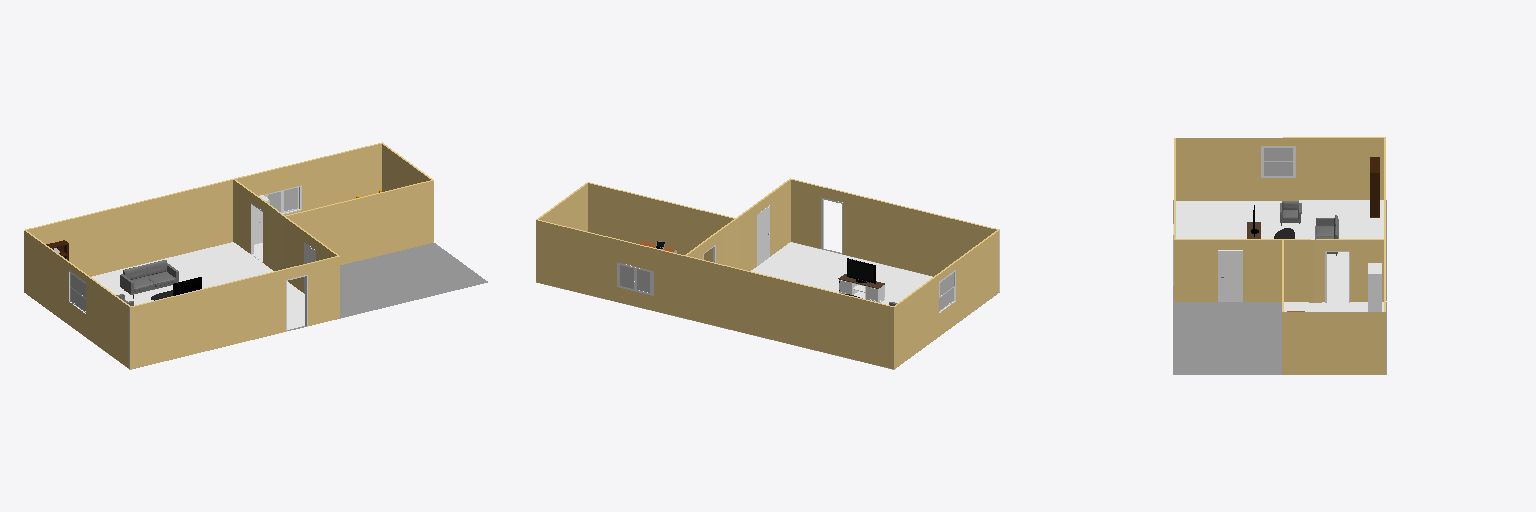
The model's file is casa.obj.
The picture shows the model from 3 angles: view 1: azimuth 30°, elevation 25°; view 2: azimuth 150°, elevation 25°; view 3: azimuth 270°, elevation 25°; orthographic projection.
Visible parts, largest first — view 1: wall_10_59, wall_6_34, wall_3_16, ground_1, wall_7_41, wall_1_5, room_12_63, wall_5_28, wall_8_46, wall_2_11, wall_4_22; view 2: wall_6_35, wall_10_58, wall_1_4, wall_7_41, wall_3_17, room_12_63, wall_8_46, wall_2_11, wall_4_22, sweethome3d_opening_on_hinge_1_door_132; view 3: wall_7_40, ground_1, room_12_63, wall_2_10, wall_8_47, wall_5_29, wall_4_23, sweethome3d_opening_on_hinge_1_door_132, room_11_62, Corps_90, Bookcase_198.
Boxes of the visible parts, box(x1,y1,x2,y2) form: wall_10_59: box(130, 257, 339, 369); wall_6_34: box(27, 180, 232, 276); wall_3_16: box(286, 181, 433, 264); ground_1: box(47, 243, 487, 369); wall_7_41: box(24, 231, 128, 367); wall_1_5: box(236, 144, 381, 215); room_12_63: box(91, 242, 304, 329); wall_5_28: box(233, 180, 269, 267); wall_8_46: box(284, 217, 336, 292); wall_2_11: box(382, 144, 430, 191); wall_4_22: box(270, 206, 283, 270); wall_6_35: box(685, 256, 893, 368); wall_10_58: box(791, 180, 996, 276); wall_1_4: box(536, 220, 684, 317); wall_7_41: box(894, 231, 998, 369); wall_3_17: box(588, 183, 733, 261); room_12_63: box(751, 242, 932, 304); wall_8_46: box(738, 180, 790, 270); wall_2_11: box(539, 184, 587, 231); wall_4_22: box(722, 219, 737, 267); sweethome3d_opening_on_hinge_1_door_132: box(758, 207, 768, 265); wall_7_40: box(1176, 138, 1383, 200); ground_1: box(1173, 200, 1386, 374); room_12_63: box(1176, 200, 1383, 301); wall_2_10: box(1282, 312, 1385, 374); wall_8_47: box(1175, 240, 1281, 301); wall_5_29: box(1313, 240, 1383, 302); wall_4_23: box(1284, 240, 1312, 302); sweethome3d_opening_on_hinge_1_door_132: box(1220, 252, 1241, 301); room_11_62: box(1284, 302, 1383, 311); Corps_90: box(1368, 263, 1381, 311); Bookcase_198: box(1370, 157, 1379, 217).
Size of the model in its own units: 1510 by 250 by 778.